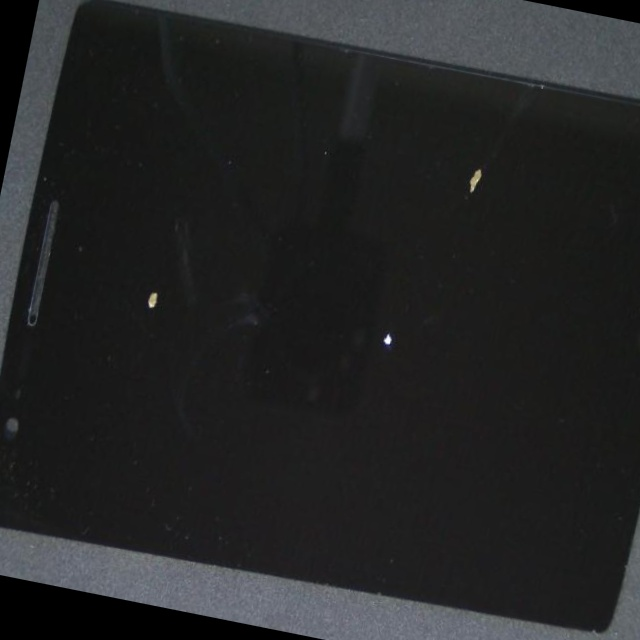stain: (105, 105, 620, 586), (0, 99, 260, 522), (258, 14, 640, 287)
